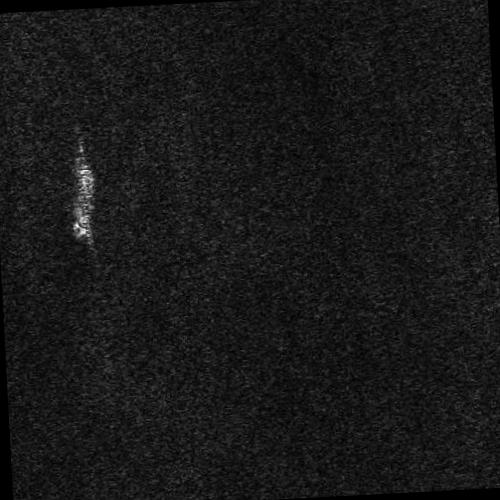ship: (72, 158, 94, 241)
